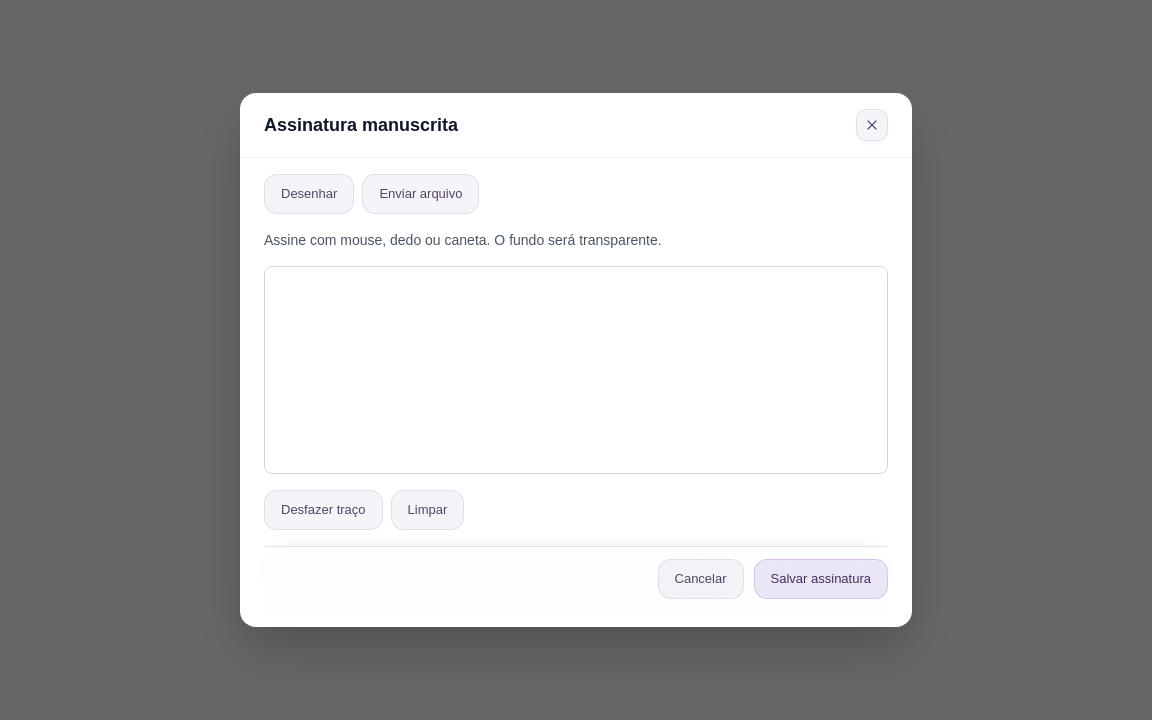
Test: editor reutilizável de assinatura › exporta desenho para PNG e mostra erros retornados pelo envio
This screenshot has width=1152, height=720.
Click the button "Salvar assinatura". click: (821, 579)
box: [754,559,888,599]
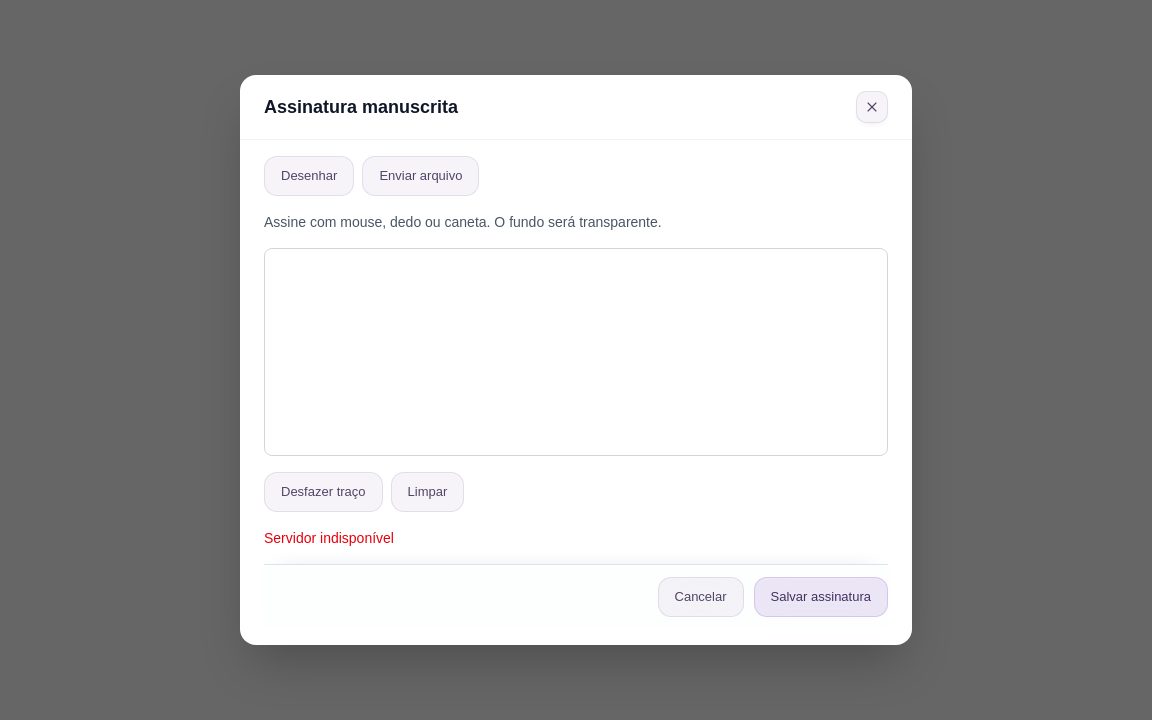
expect the button "Salvar assinatura" is enabled: met, box [754,577,888,617]
expect the message reads "Servidor indisponível": met, box [264,530,394,546]
